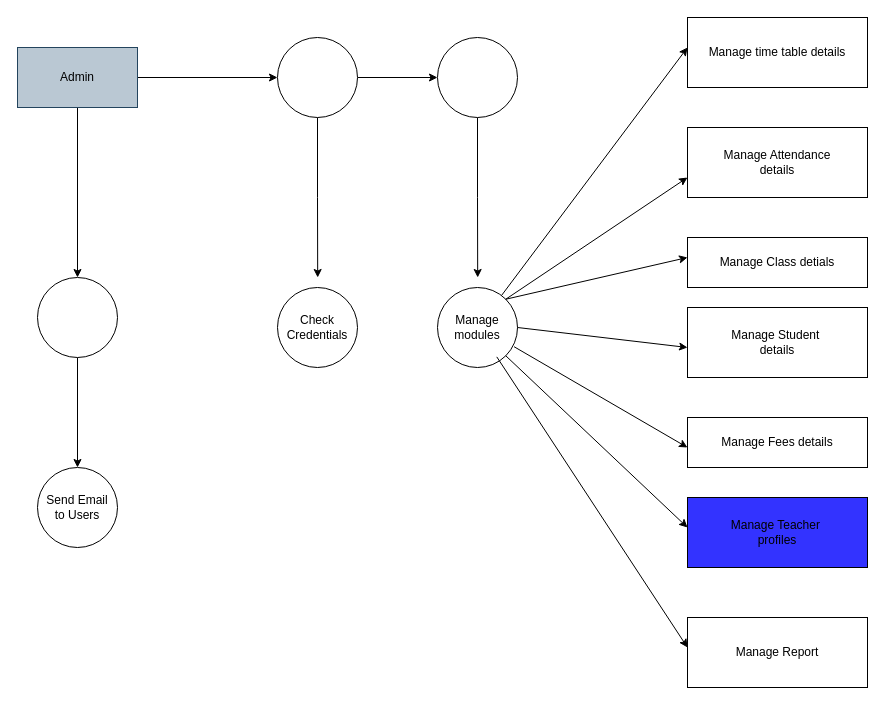
Image size: 885x705. Some labels were removed from this diagram. Here are the shapes that lost their labels. From the top down, the centre of each, then its label:
At (317,77): "Login to System".
At (477,77): "Check Roles of Access".
At (77,317): "Forget Password".
